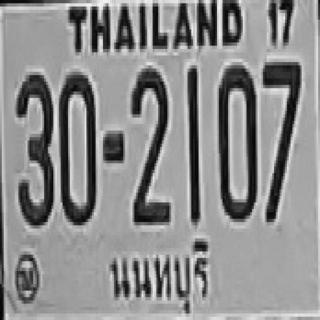N00: (217, 62, 256, 219), (59, 68, 96, 222)
N01: (187, 65, 199, 222)
N02: (131, 65, 169, 222)
N03: (15, 72, 53, 225)
N07: (261, 57, 300, 220)
P37: (105, 237, 217, 318)
